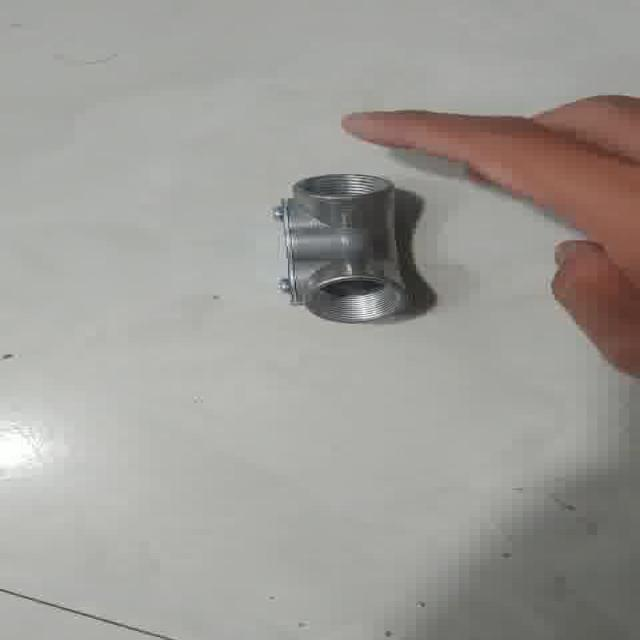Dry Waste: (272, 170, 419, 320)
